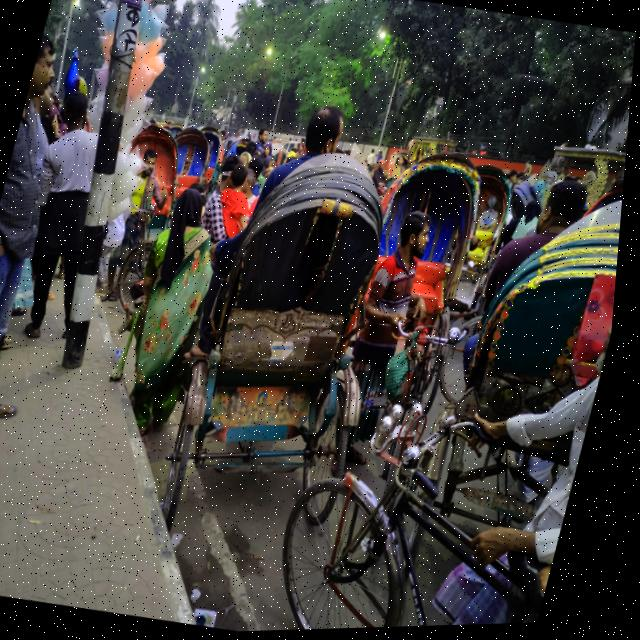rikshaw: (139, 124, 400, 555), (415, 152, 629, 596), (309, 127, 502, 470), (61, 107, 203, 358)
